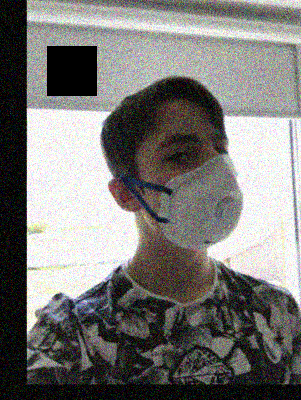with_mask: (149, 123, 243, 251)
